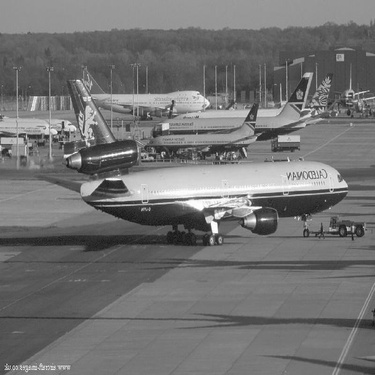airplane: (41, 128, 363, 272), (32, 65, 332, 155), (74, 60, 227, 114), (1, 106, 81, 132), (1, 114, 62, 144)
